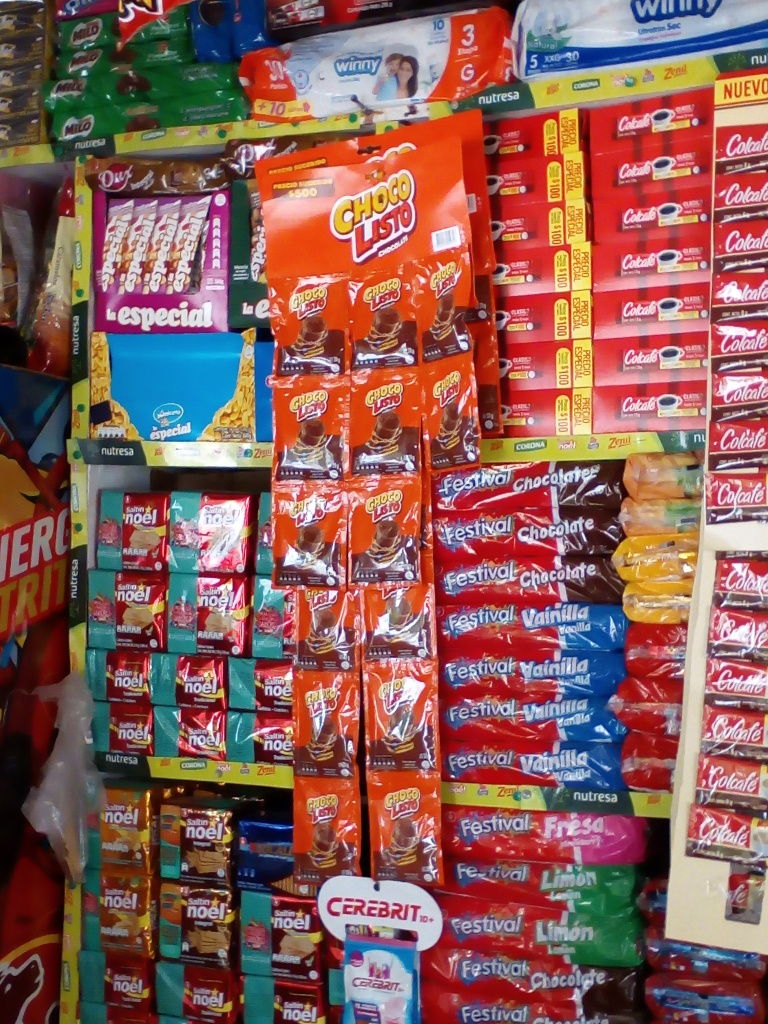COL0170103SOB02000: (272, 275, 344, 377)
